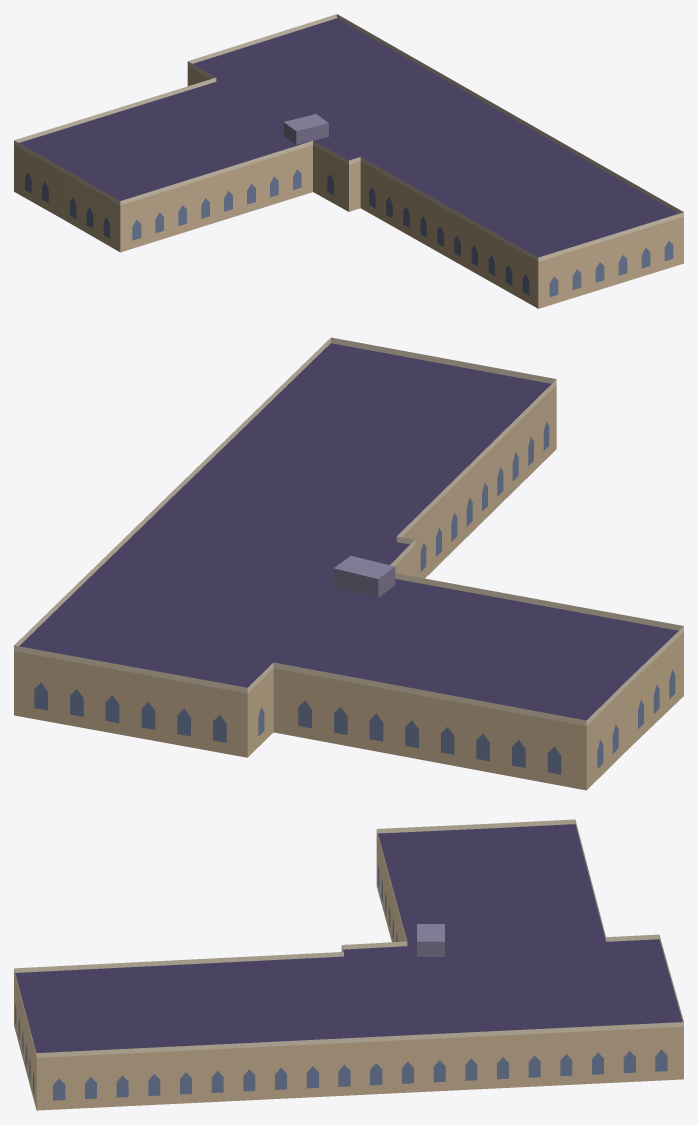
The model's file is b-078-day.glb.
The picture shows the model from 3 angles, top to bottom: view 1: azimuth 30°, elevation 25°; view 2: azimuth 150°, elevation 25°; view 3: azimuth 270°, elevation 25°; orthographic projection. The views are drawn at different scales.
Parts seen in each view (by area): view 1: campus/b-078-day-0; view 2: campus/b-078-day-0; view 3: campus/b-078-day-0.
Boxes of the visible parts, box(x1,y1,x2,y2) form: campus/b-078-day-0: box(14, 14, 683, 308); campus/b-078-day-0: box(14, 337, 683, 790); campus/b-078-day-0: box(14, 819, 683, 1110).
Bounding box in the file's own units: 58.95 × 8 × 71.4.
